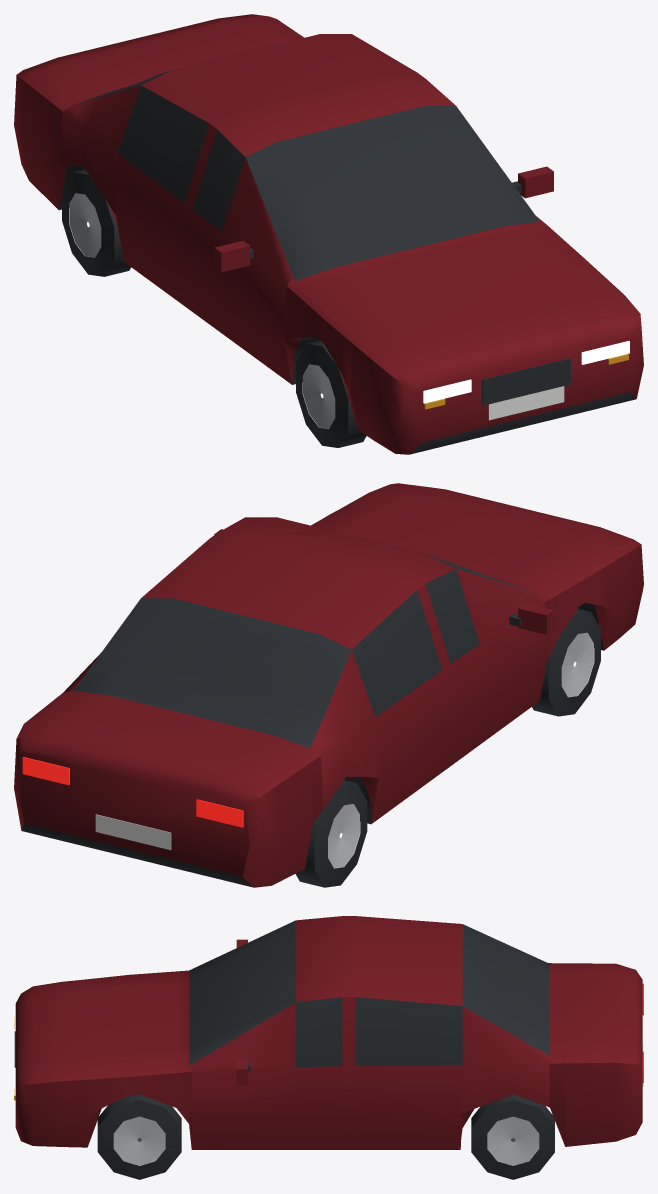
File: sedan_red_lod1.glb
3 views of the same model, one above another, from view 1: azimuth 30°, elevation 25°; view 2: azimuth 150°, elevation 25°; view 3: azimuth 270°, elevation 25° (orthographic). The views are drawn at different scales.
Parts seen in each view (by area): view 1: sedan_red_lod1; view 2: sedan_red_lod1; view 3: sedan_red_lod1.
Boxes of the visible parts, x1,y1,x2,y2 form: sedan_red_lod1: [14, 14, 643, 454]; sedan_red_lod1: [14, 483, 643, 887]; sedan_red_lod1: [14, 916, 643, 1179].
Bounding box in the file's own units: 0.115 × 0.0745 × 0.2361.
